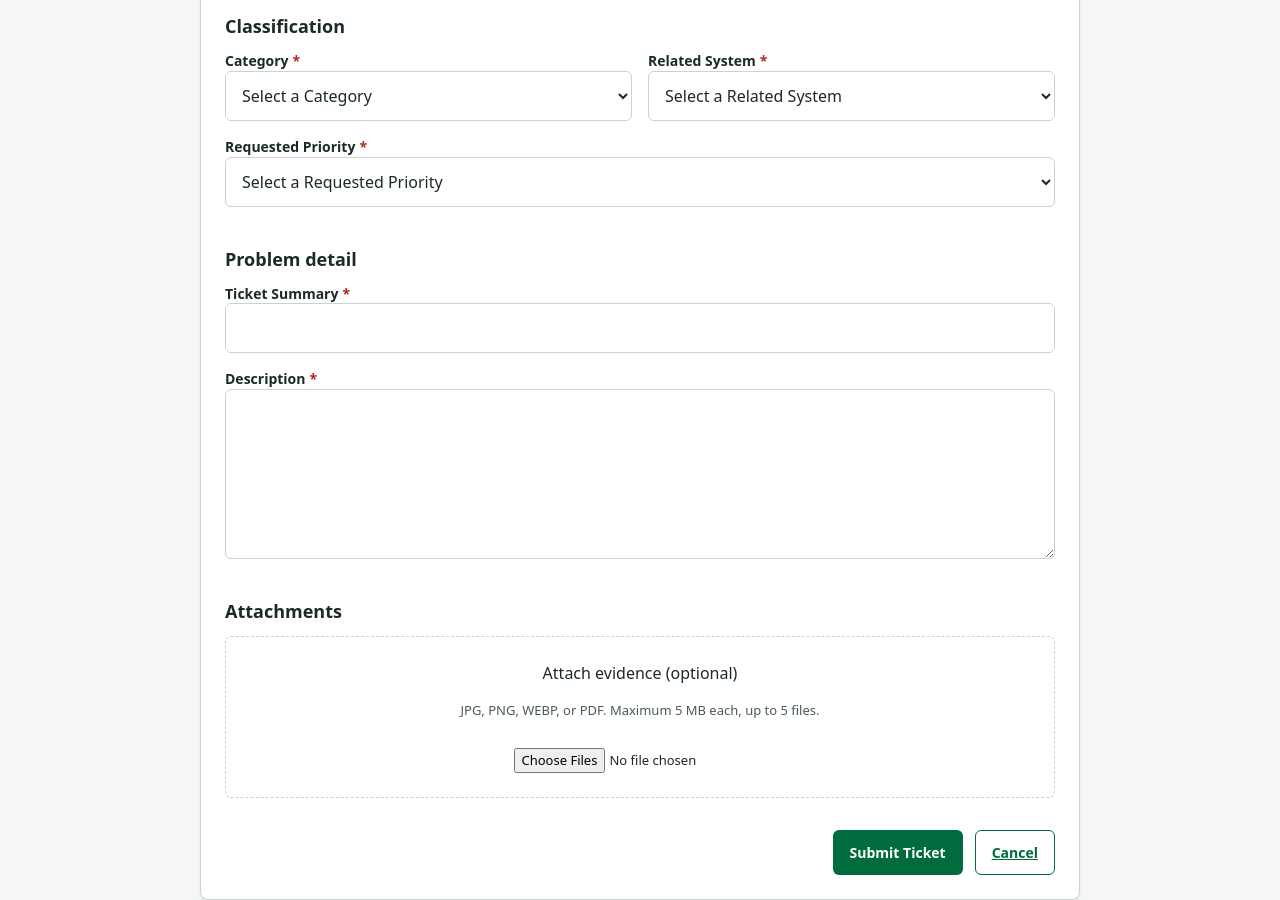
STY-02 (AC-41) - message position › clears the message when the field is corrected
The image size is (1280, 900).
(page scrolled)
Expected: the dropdown with test id "field-category" is shown, [225,71,632,121]
Click the button with test id "btn-submit-ticket".
click(898, 853)  # box [833,830,963,875]
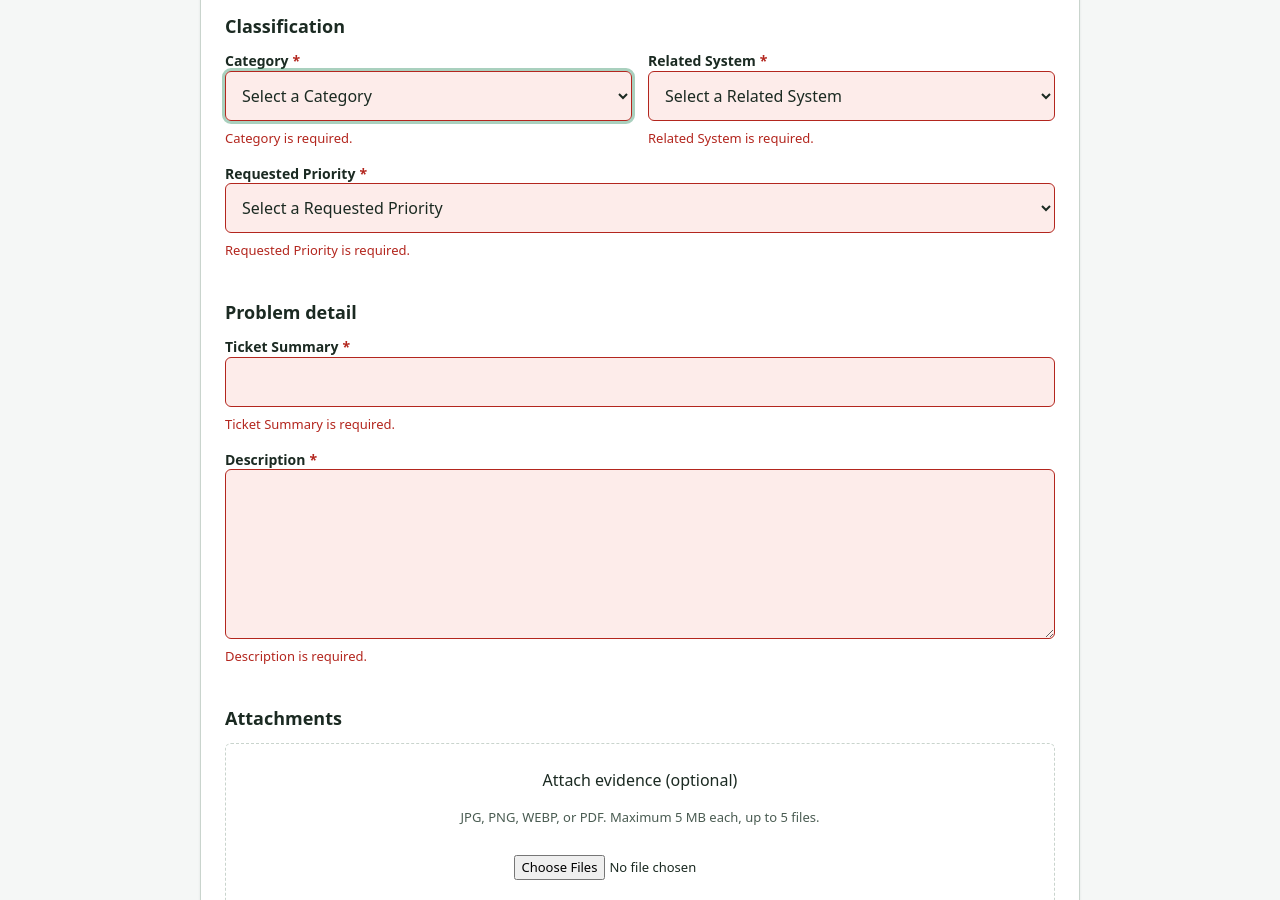
Expected: the text "Ticket Summary is required." is shown, [225,415,395,433]
Type "Laptop battery drains fast" into the field with test id "field-summary".
click(640, 382); type("Laptop battery drains fast")  # box [225,357,1055,407]
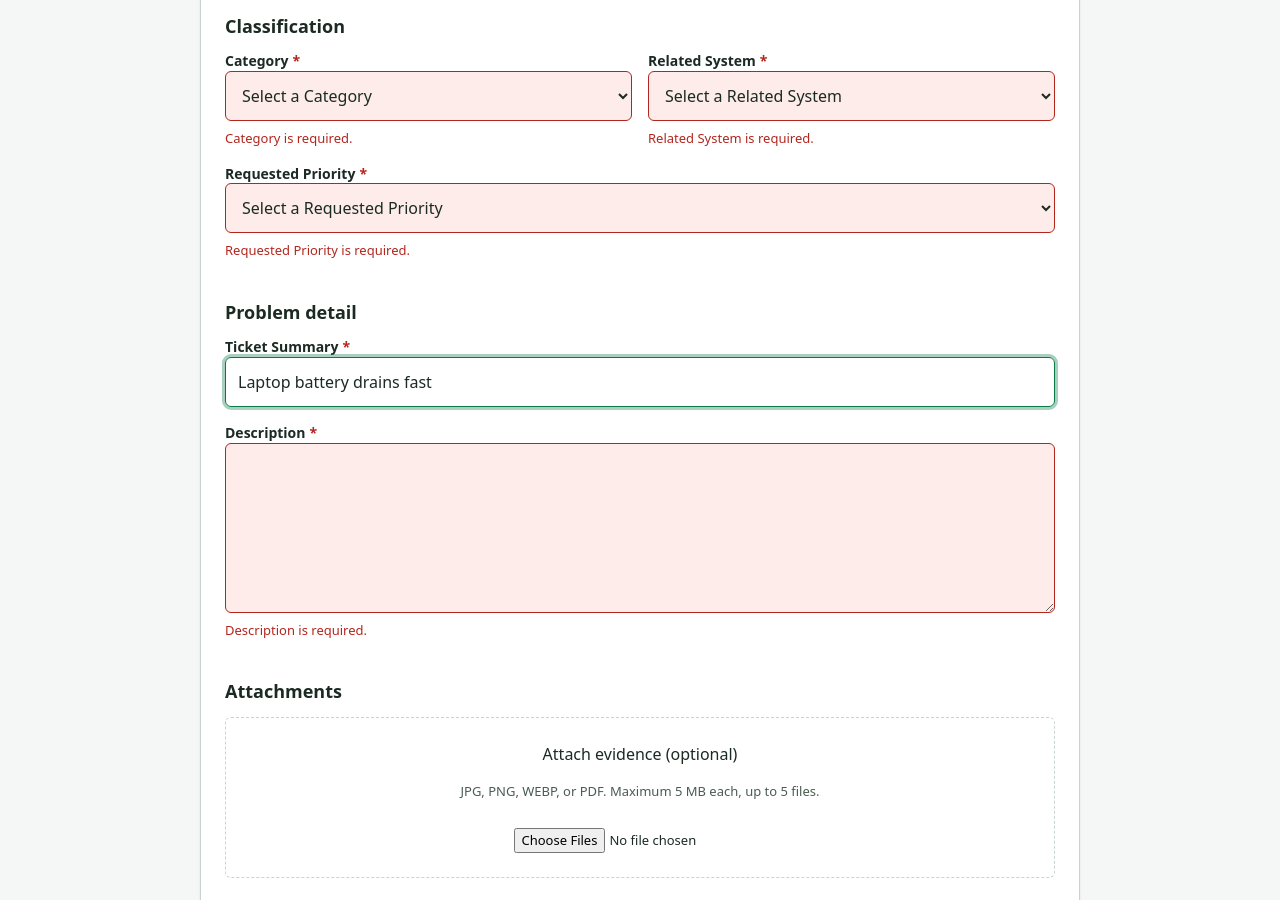
Expected: the text with test id "error-summary" is gone
